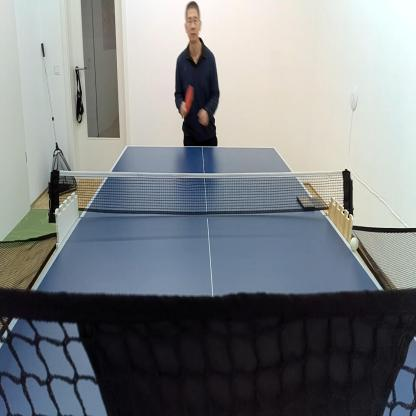Ball: (182, 83, 196, 120), (350, 235, 360, 253)
